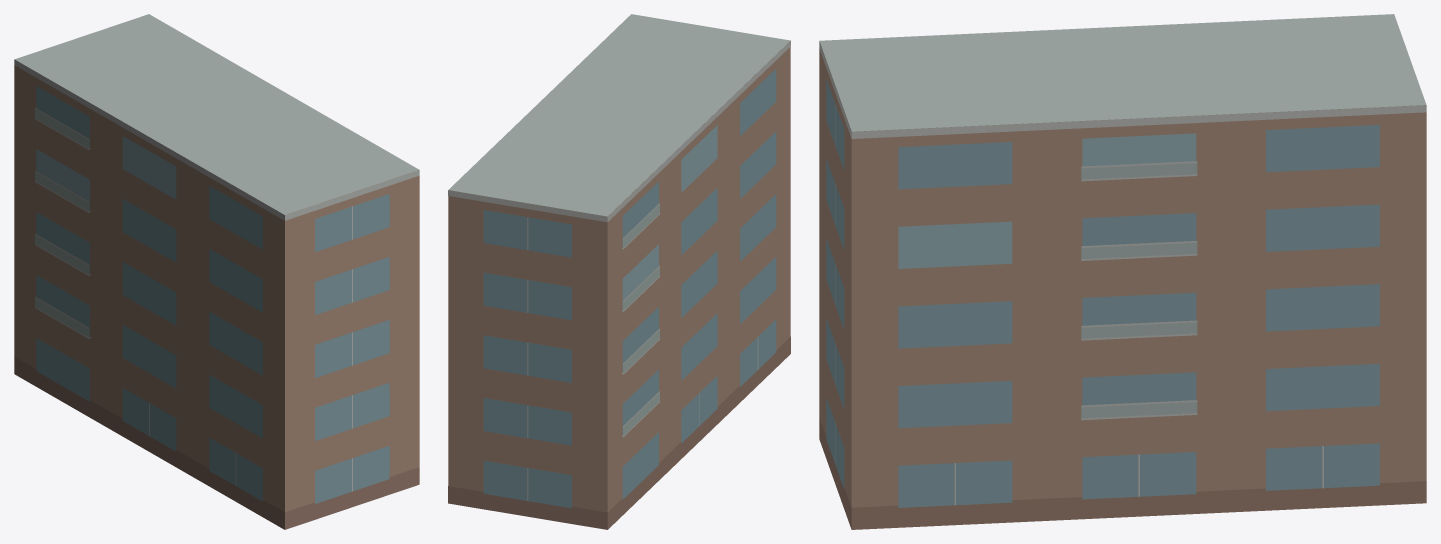
Rendered from survey-upis-32741853.glb.
3 views of the same model, side by side, from view 1: azimuth 30°, elevation 25°; view 2: azimuth 150°, elevation 25°; view 3: azimuth 270°, elevation 25° (orthographic). The views are drawn at different scales.
Parts seen in each view (by area): view 1: survey-upis-32741853.tmp; view 2: survey-upis-32741853.tmp; view 3: survey-upis-32741853.tmp.
Part boxes in pixels (left/top/right/bottom): survey-upis-32741853.tmp: left=14, top=14, right=419, bottom=529; survey-upis-32741853.tmp: left=448, top=14, right=790, bottom=529; survey-upis-32741853.tmp: left=819, top=14, right=1426, bottom=529.
Size of the model in its own units: 8.38 by 13.2 by 18.25.
